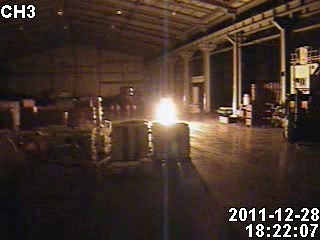fire: (153, 94, 179, 127)
